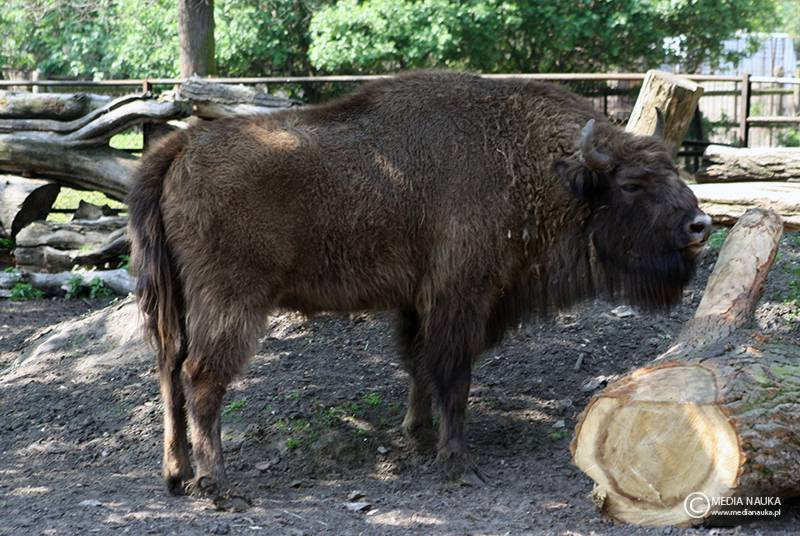zubr: (98, 65, 734, 493)
